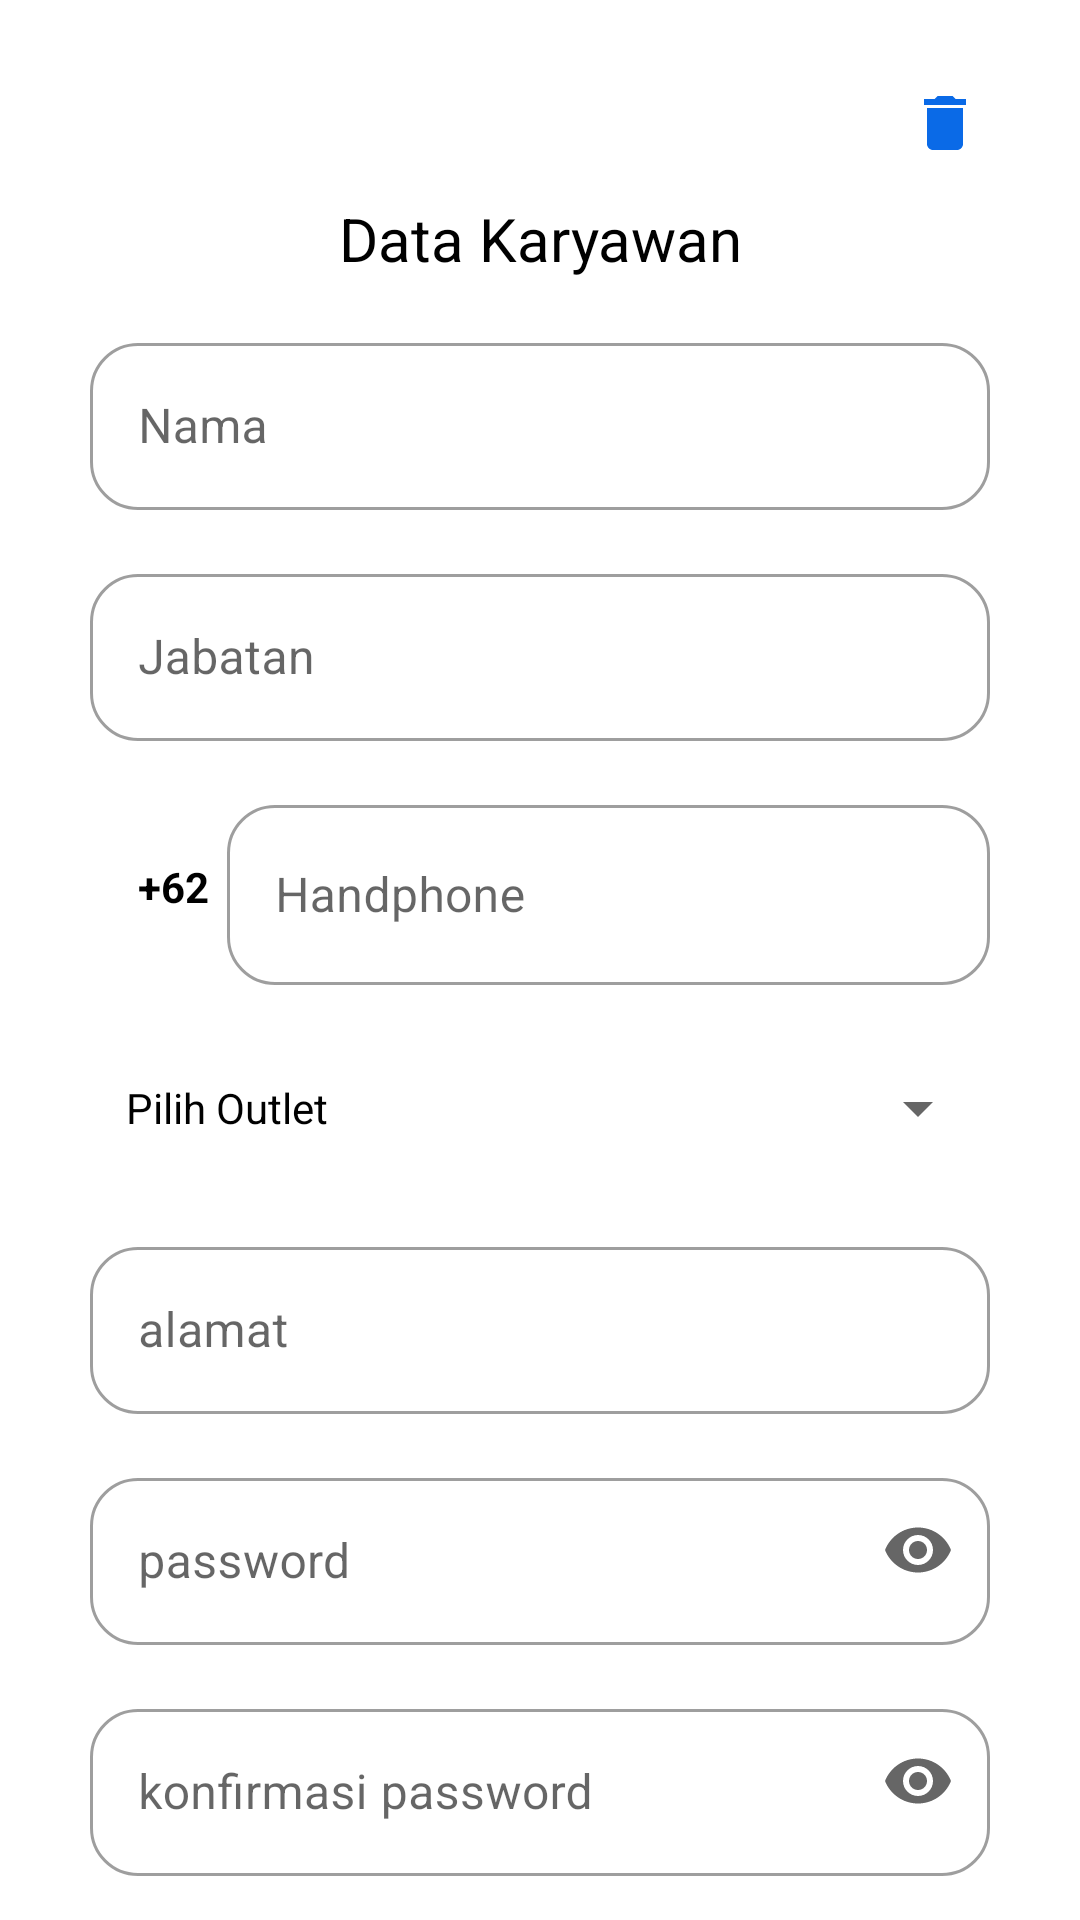

Screen size 1080 × 1920. Icon name, then its center in pixels as point (x, y):
Hapus Outlet: point (945, 123)
